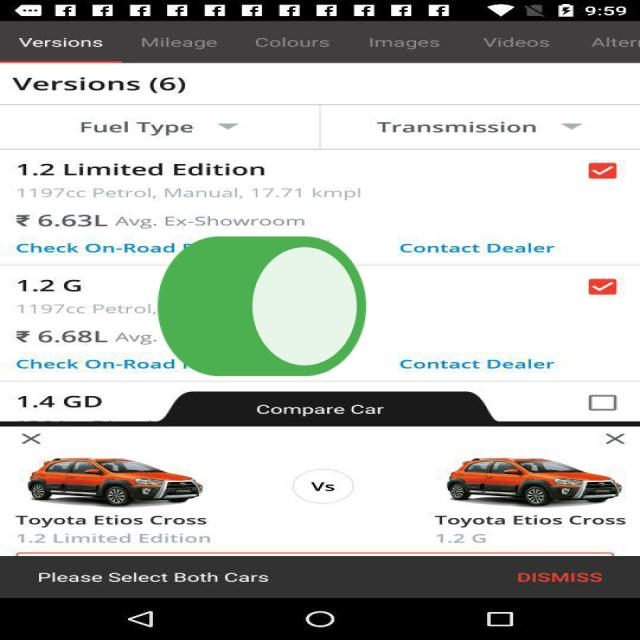social proof: (148, 182, 376, 440)
